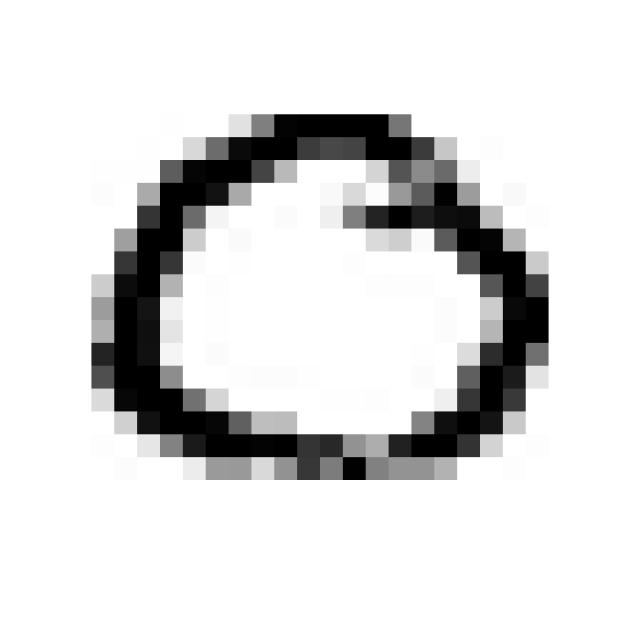5 -five-: (71, 84, 572, 498)
